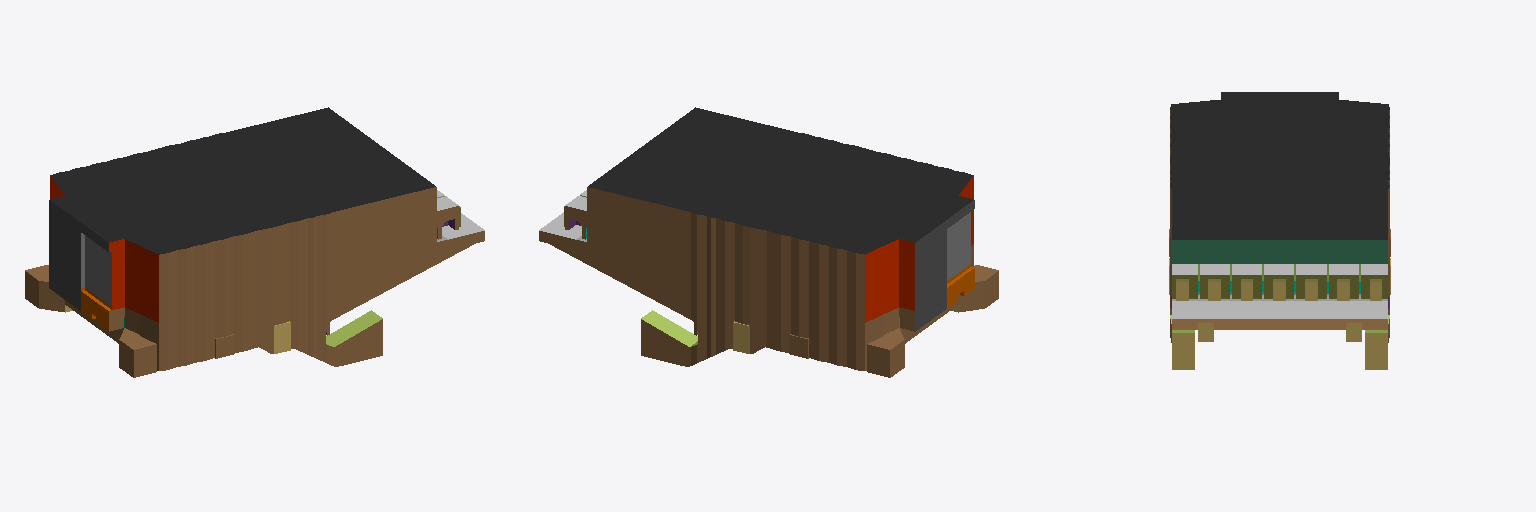
Rendered from FilharmoniaLodzka.obj.
3 views of the same model, side by side, from view 1: azimuth 30°, elevation 25°; view 2: azimuth 150°, elevation 25°; view 3: azimuth 270°, elevation 25° (orthographic).
Visible parts, largest first — view 1: SketchUp.075_SketchUp.076; view 2: SketchUp.075_SketchUp.076; view 3: SketchUp.075_SketchUp.076.
Boxes of the visible parts, box(x1,y1,x2,y2) form: SketchUp.075_SketchUp.076: box(25, 107, 484, 377); SketchUp.075_SketchUp.076: box(539, 107, 998, 377); SketchUp.075_SketchUp.076: box(1169, 92, 1390, 369).
Bounding box in the file's own units: 38 × 16 × 20.66.